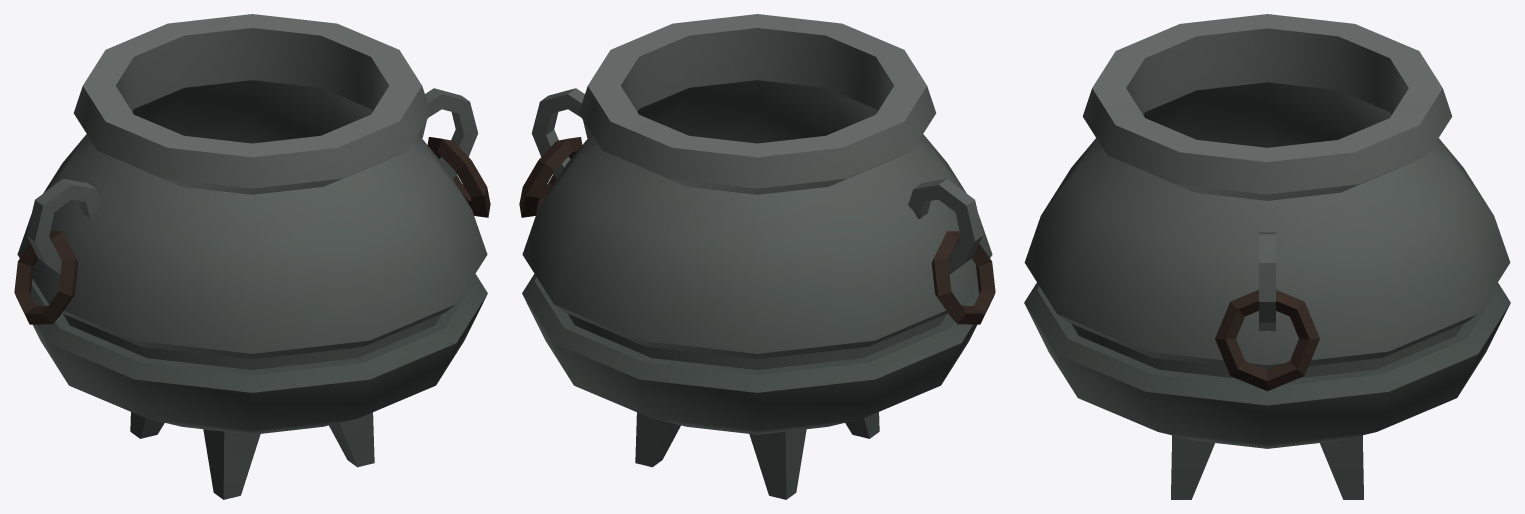
File: Cauldron_01.fbx
3 views of the same model, side by side, from view 1: azimuth 30°, elevation 25°; view 2: azimuth 150°, elevation 25°; view 3: azimuth 270°, elevation 25° (orthographic). The views are drawn at different scales.
Parts seen in each view (by area): view 1: Cauldron; view 2: Cauldron; view 3: Cauldron.
Boxes of the visible parts, left/top/right/bottom form: Cauldron: left=14, top=14, right=490, bottom=499; Cauldron: left=519, top=14, right=995, bottom=499; Cauldron: left=1024, top=14, right=1510, bottom=499.
Size of the model in its own units: 0.9811 by 0.7449 by 0.8793.
